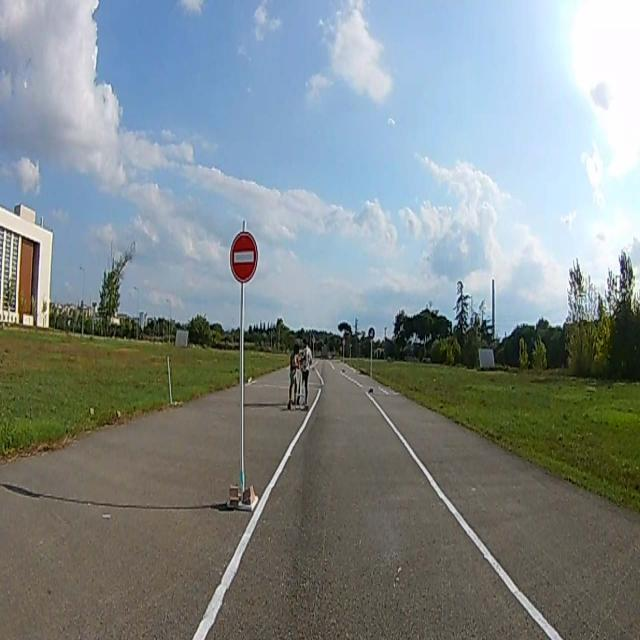girisyok: (231, 234, 257, 279)
